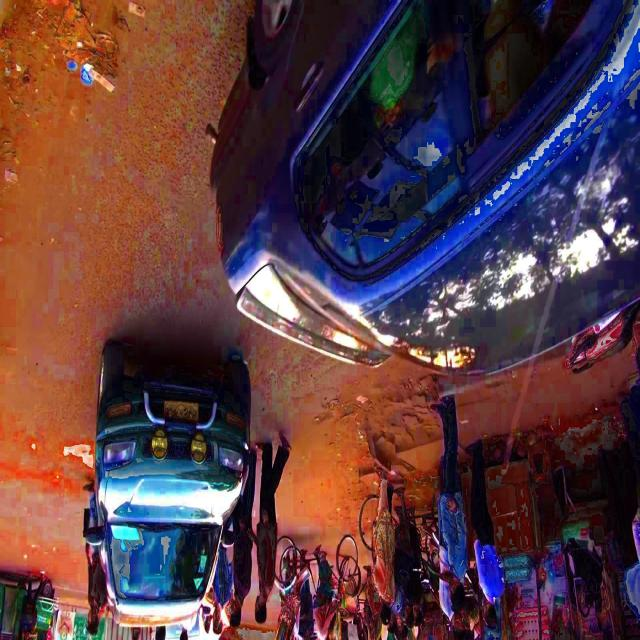green: (84, 324, 266, 637)
